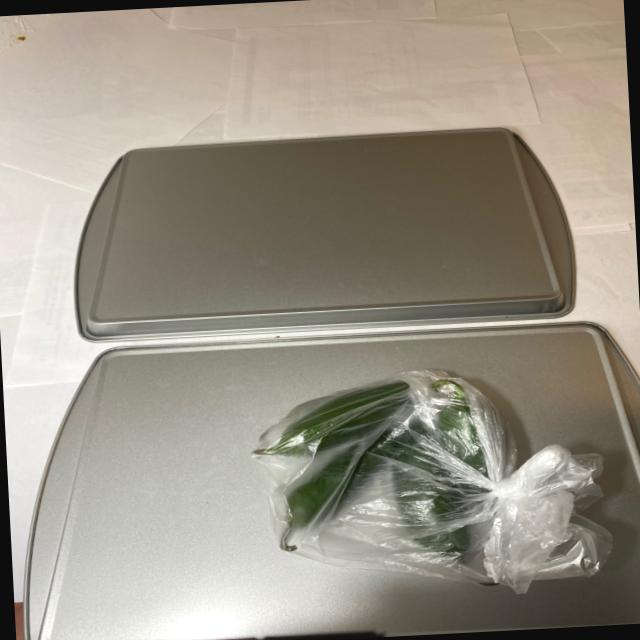chilli: (250, 366, 526, 601)
